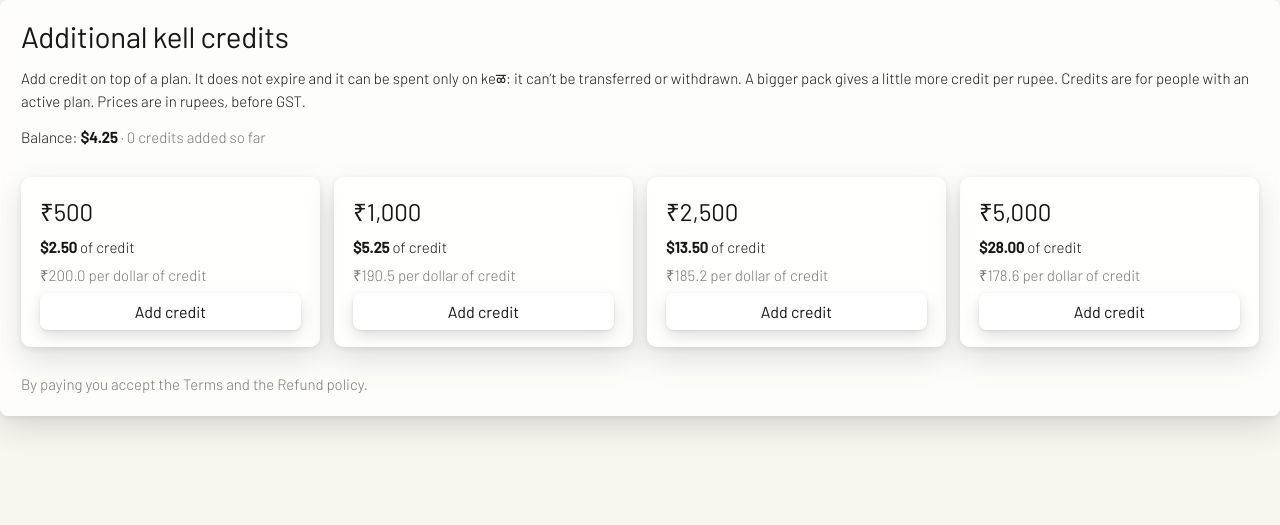
Test: buying a pack › if confirmation never arrives it says so and offers Contact with the order id
Click the button "Add credit" below "200.0": (170, 311) [40,293,301,330]
Wait 3500 ms
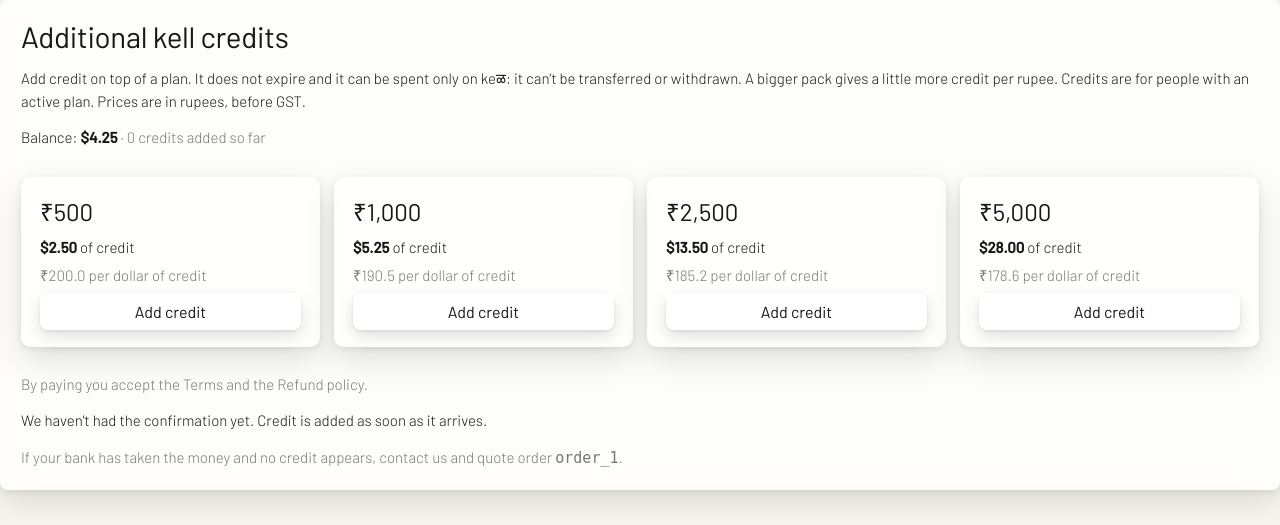
Expected: the text "haven't had the confirmation yet" is shown, [21,411,487,429]
Expected: the text "order_1" is shown, [555,449,618,467]
Expected: the link to "/contact" is shown, [379,448,447,466]
